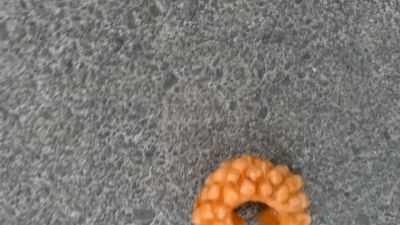eggs: (192, 153, 312, 225)
